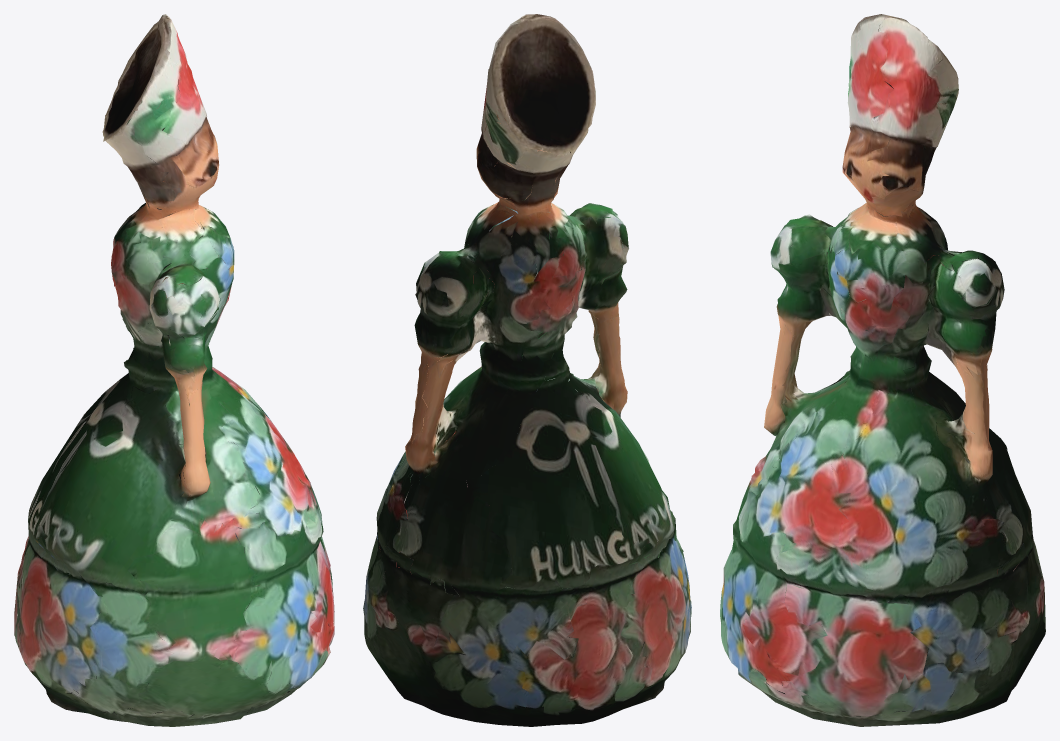
Rendered from mdl_hub_hungariansouvinir.gltf.
3 views of the same model, side by side, from view 1: azimuth 30°, elevation 25°; view 2: azimuth 150°, elevation 25°; view 3: azimuth 270°, elevation 25° (orthographic).
Parts seen in each view (by area): view 1: Object_2; view 2: Object_2; view 3: Object_2.
Boxes of the visible parts, bbox=[...] form: Object_2: bbox=[14, 14, 334, 726]; Object_2: bbox=[363, 14, 691, 726]; Object_2: bbox=[720, 14, 1045, 726].
Bounding box in the file's own units: 6.6 × 14.62 × 6.6.
1 material, 1 textured.
